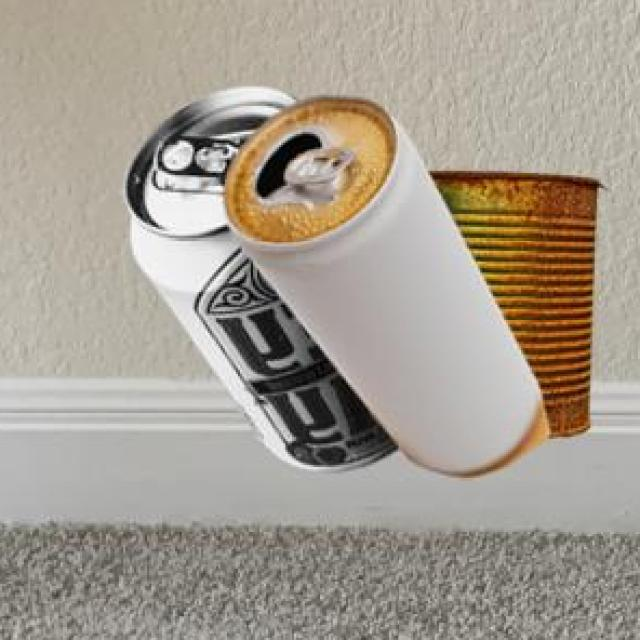logam: (228, 92, 552, 472), (129, 85, 403, 468), (431, 168, 602, 434)
